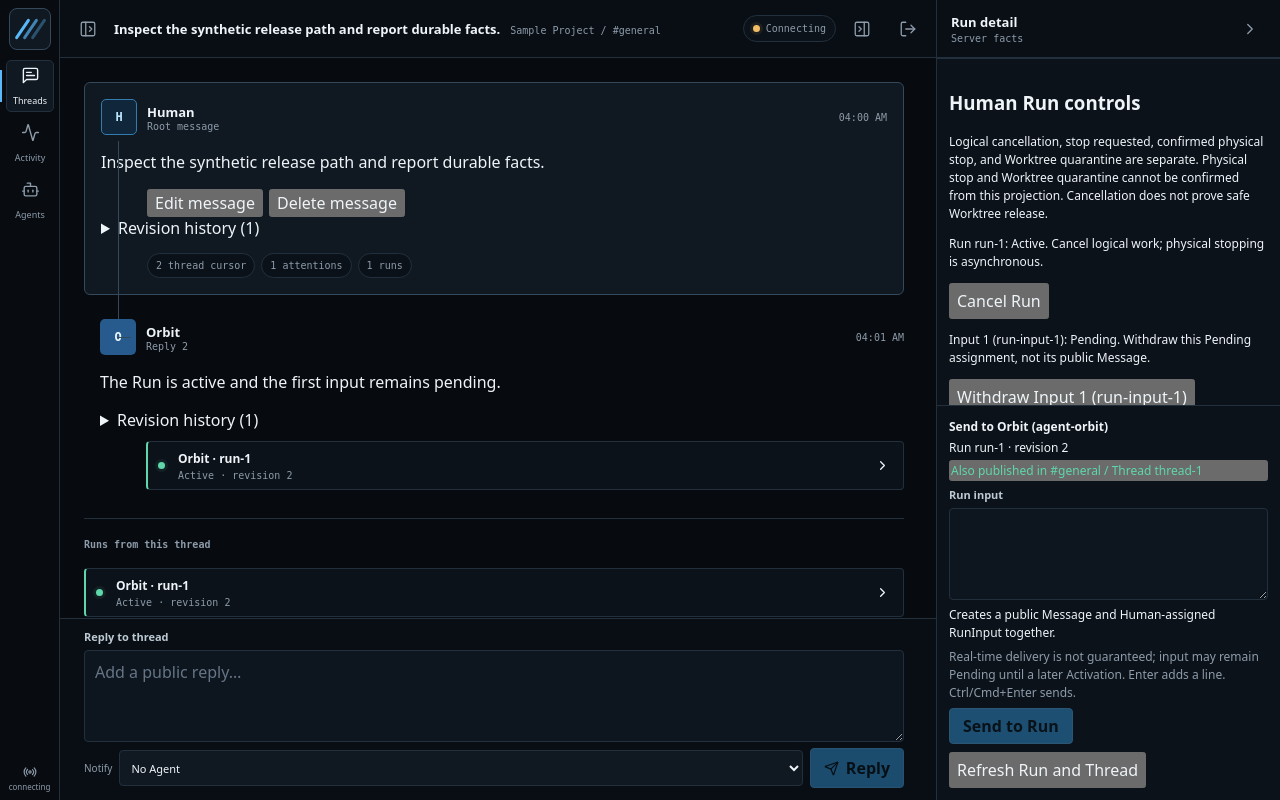
it: Rendered Human cancel controls (MVP 44.2.1) › reports forbidden without claiming a commit and requires refresh
The image size is (1280, 800).
Click the button "Cancel Run": (999, 301) x1=949 y1=283 x2=1049 y2=319
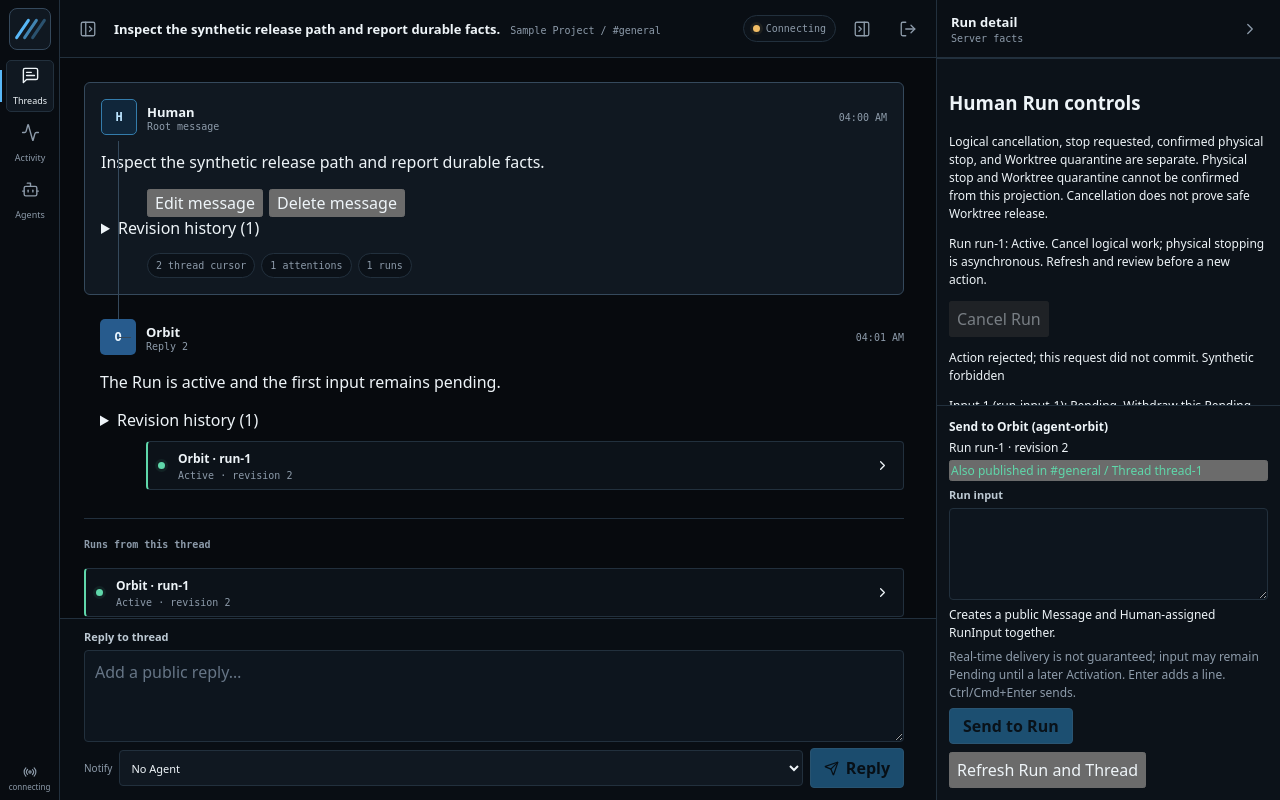
Expected: the message "Action rejected; this request did not commit. Synthetic forbidden" is shown, x1=949 y1=349 x2=1268 y2=385
Expected: the button "Cancel Run" is disabled, x1=949 y1=301 x2=1049 y2=337
Expected: the element "Human Run controls" shows "Refresh and review", x1=949 y1=253 x2=1230 y2=288
